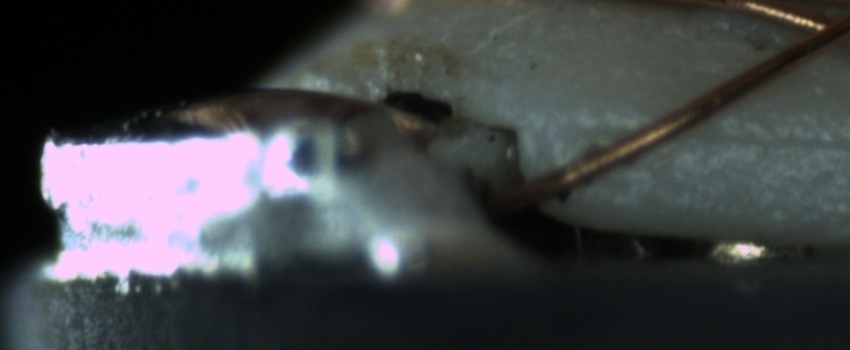CL: (773, 3, 849, 59)
DL: (607, 102, 847, 173)
